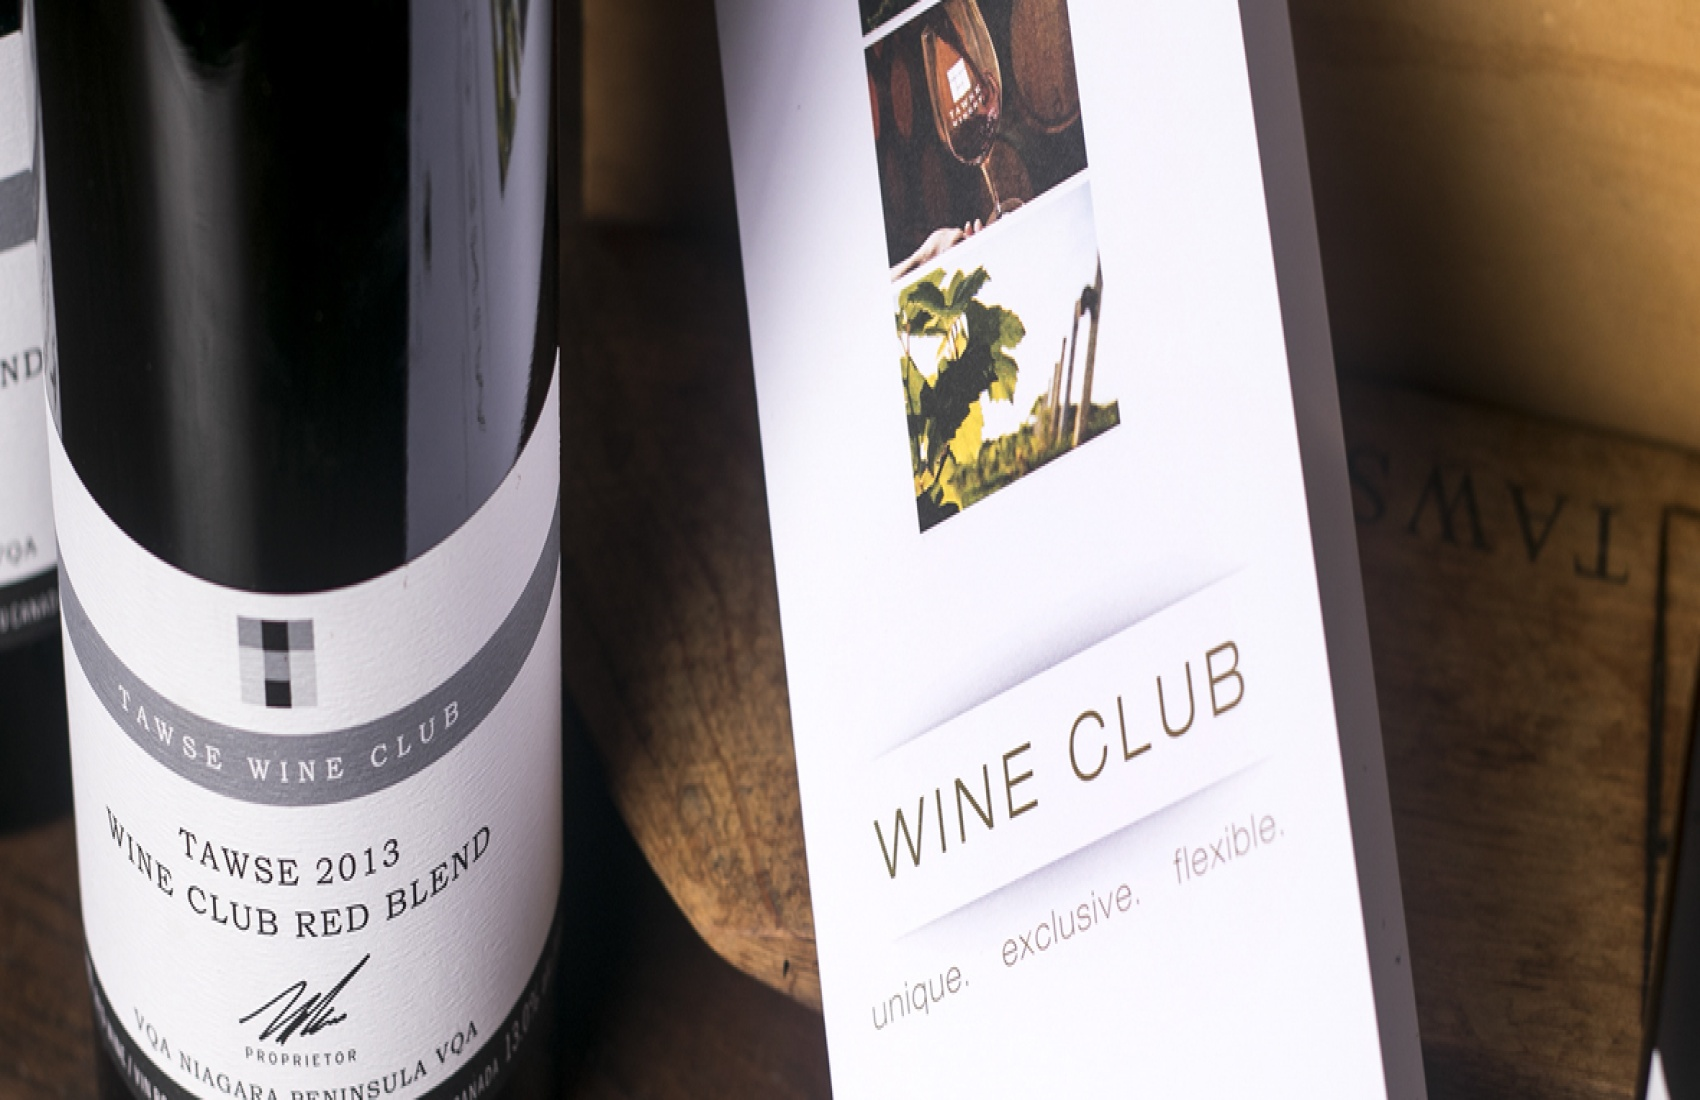wine: (58, 1, 563, 1094)
